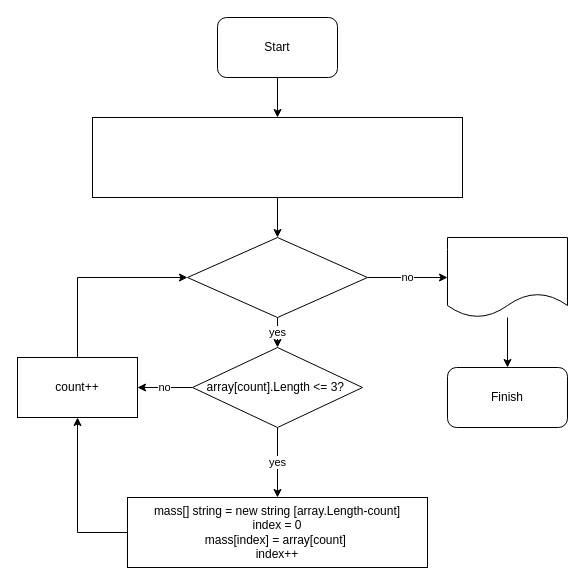
The diagram is 585 pixels wide and 585 high, and some of its shapes have lost their labels. The shapes that lost their labels are listed below. From the top down, each one's centre as x and y in pixels, then its label:
At (277,157): "array []string = new string [Вася, Петя, 1, do, 32, sheep, yes] count = 0".
At (277,277): "count < array.Length -1?".
At (507,277): "print mass[]".
